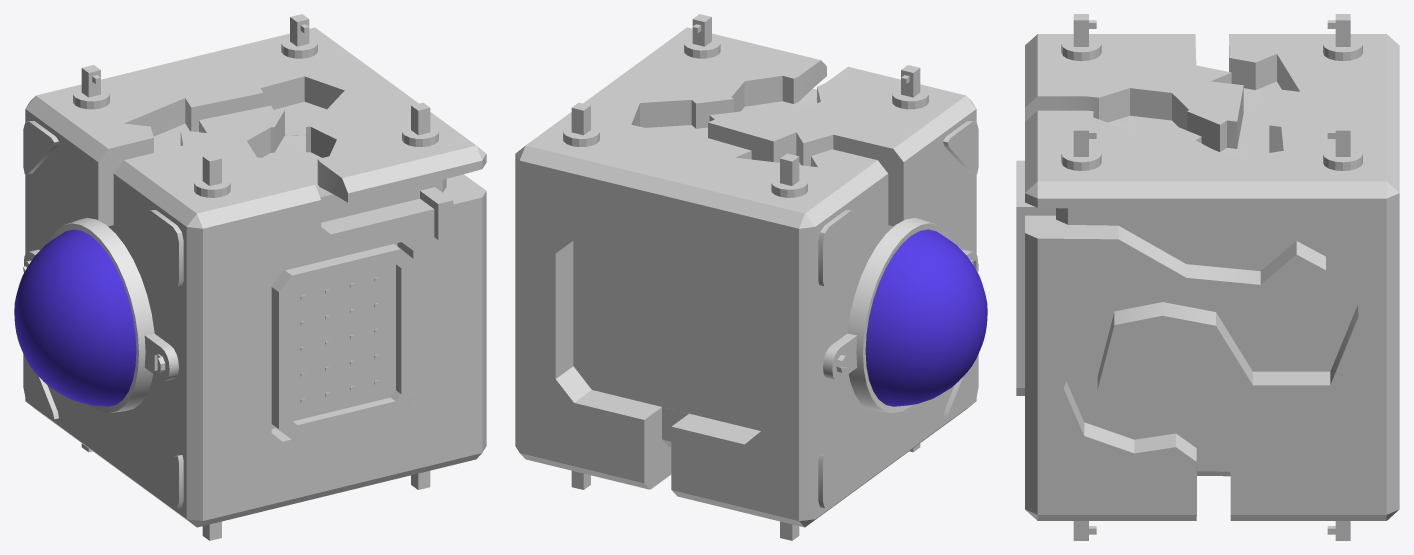
3 renders of one model, left to right at view 1: azimuth 30°, elevation 25°; view 2: azimuth 150°, elevation 25°; view 3: azimuth 270°, elevation 25°, orthographic. The views are drawn at different scales.
Parts seen in each view (by area): view 1: FinalCube.002, Cube.009, Sphere, Plane, Cube.002, Cube.015, Cube.022, Cube.017, Cube.018, Cube.010, Plane.001; view 2: FinalCube.002, Sphere, Plane, Cube.002, Cube.017, Cube.018, Cube.022, Cube.015; view 3: FinalCube.002, Cube.009, Cube.018, Cube.017, Cube.015, Cube.022, Cube.010.
Boxes of the visible parts, x1,y1,x2,y2 form: FinalCube.002: (25,27,486,527); Cube.009: (271,244,413,439); Sphere: (14,218,154,412); Plane: (23,121,183,508); Cube.002: (24,249,178,380); Cube.015: (73,65,109,109); Cube.022: (281,14,317,58); Cube.017: (402,102,438,146); Cube.018: (194,153,230,197); Cube.010: (420,187,453,239); Plane.001: (300,277,379,403); FinalCube.002: (515,27,976,527); Sphere: (847,218,987,412); Plane: (818,121,978,508); Cube.002: (823,249,977,380); Cube.017: (684,14,720,58); Cube.018: (892,65,928,109); Cube.022: (563,102,599,146); Cube.015: (771,153,807,197); FinalCube.002: (1025,34,1399,520); Cube.009: (1016,160,1024,395); Cube.018: (1061,14,1101,61); Cube.017: (1061,124,1101,170); Cube.015: (1323,14,1362,60); Cube.022: (1323,124,1362,170); Cube.010: (1016,199,1055,245).
Bounding box in the file's own units: 253 × 242 × 205.
